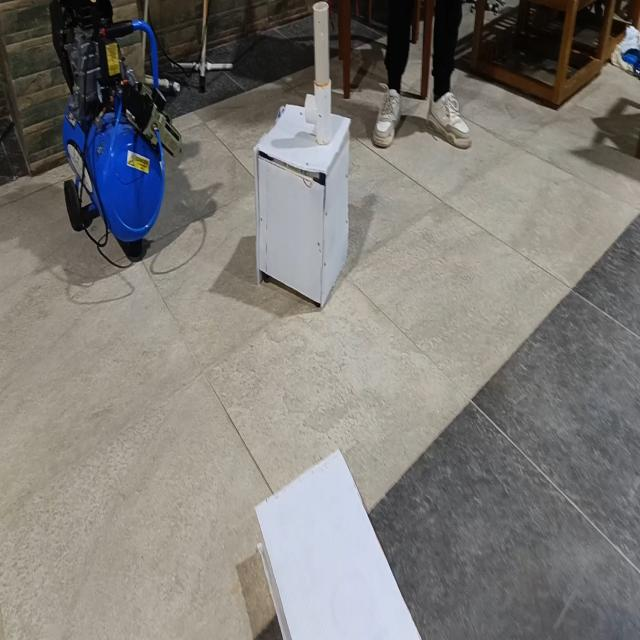Cube: (253, 100, 351, 308)
Cuboid: (253, 447, 422, 638)
